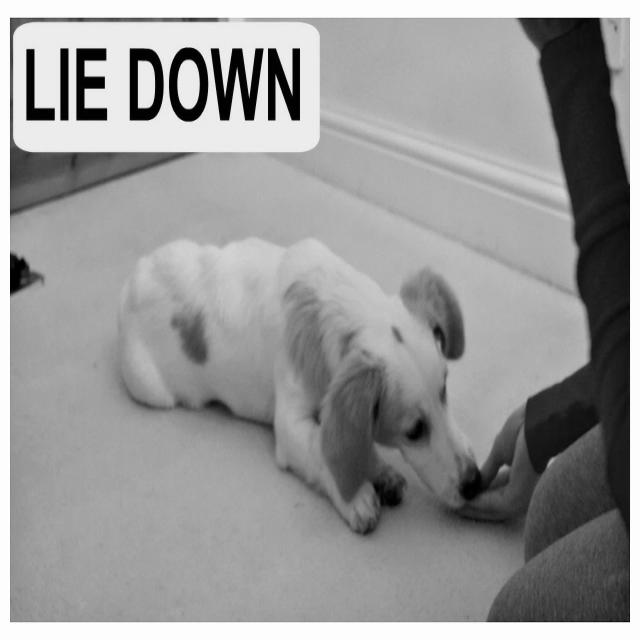laying down: (114, 227, 482, 533)
